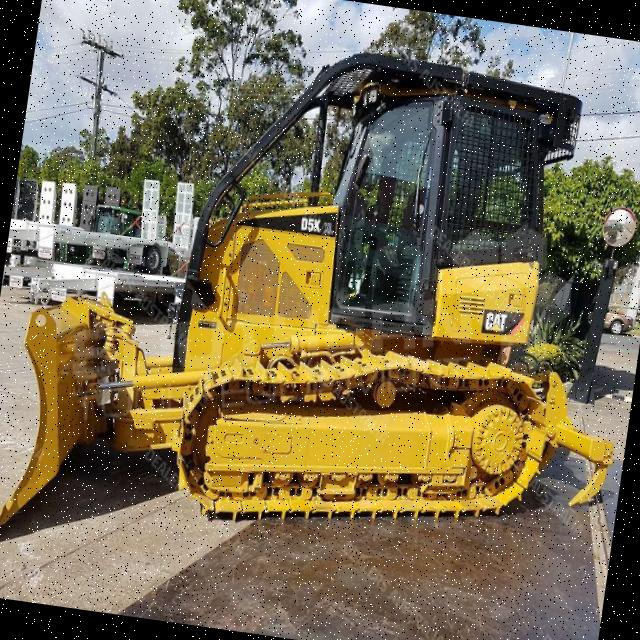Bulldozer: (3, 0, 640, 616)
